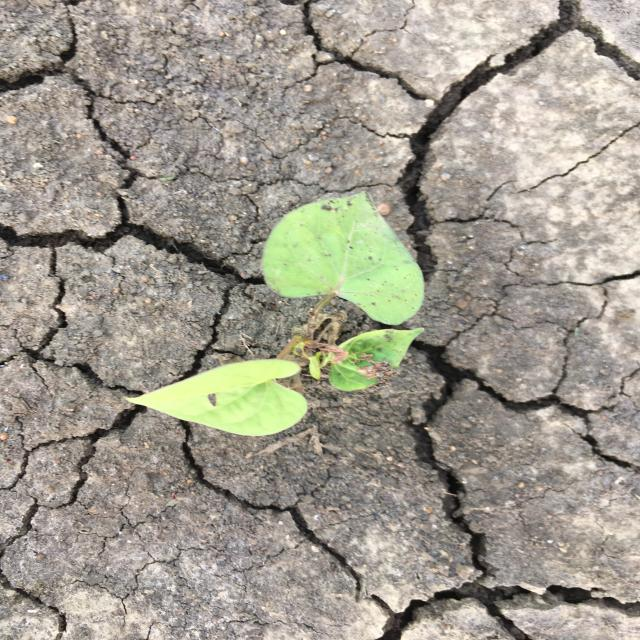MorningGlory: (124, 190, 428, 439)
